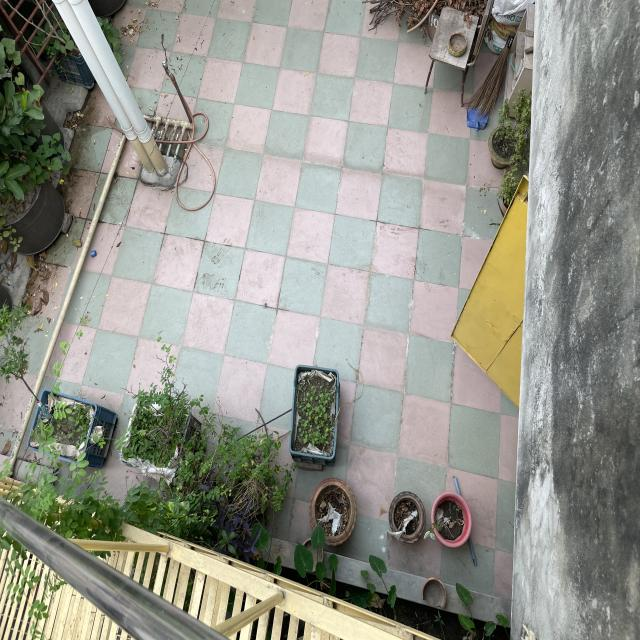Breeding Place: (29, 391, 117, 466), (294, 361, 333, 467), (312, 478, 355, 548), (429, 491, 473, 552), (386, 494, 427, 545), (490, 130, 518, 174), (447, 33, 472, 59)
